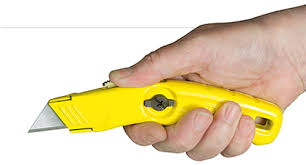knife: (23, 62, 284, 154)
